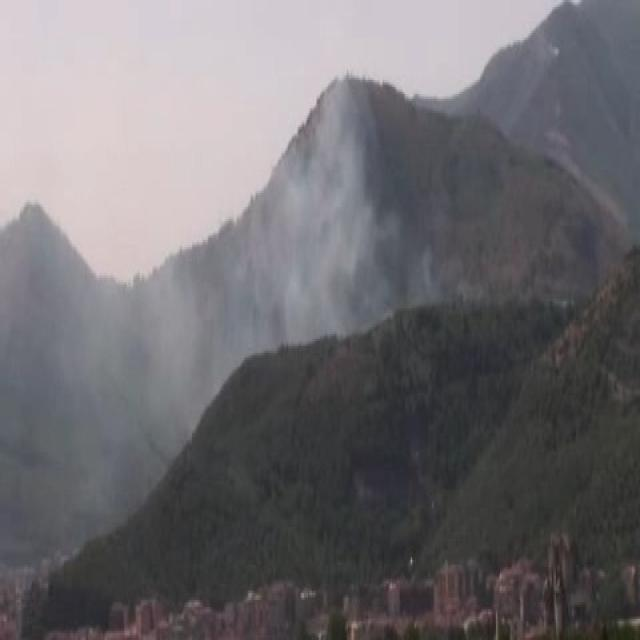Smoke: (253, 103, 391, 344), (11, 278, 220, 428)
